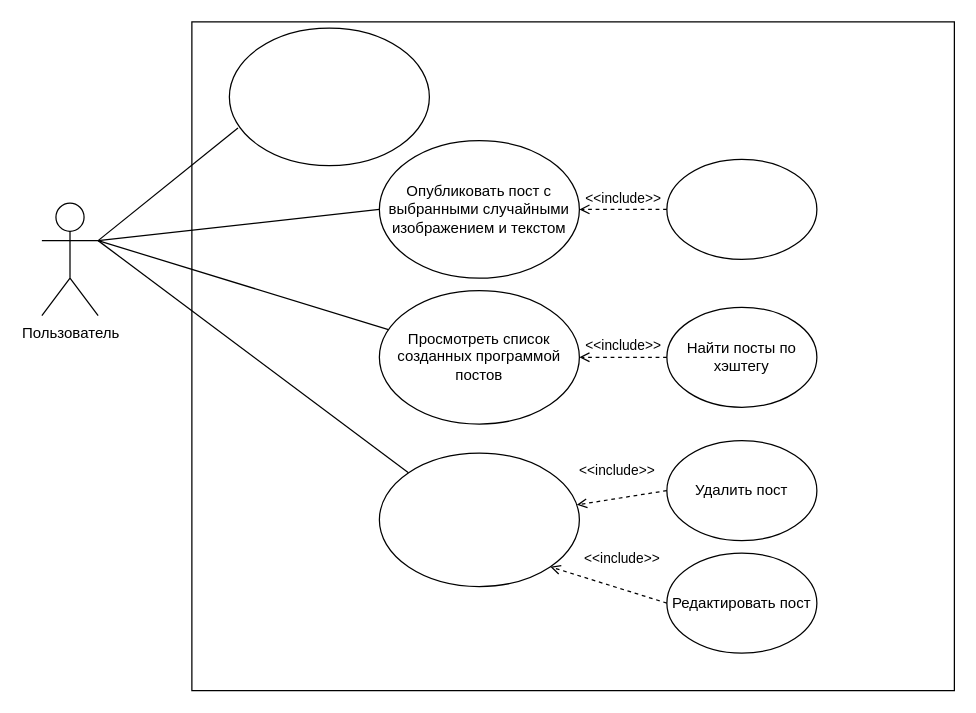
The diagram is 976 pixels wide and 713 high, and some of its shapes have lost their labels. Each missing label, with the centre of its shape:
"Добавить к посту хэштег" goes at point (741, 208).
"Просмотреть случайный текст со случайным изображением кота" goes at point (328, 96).
"Редактировать список созданных программой постов" goes at point (478, 519).
